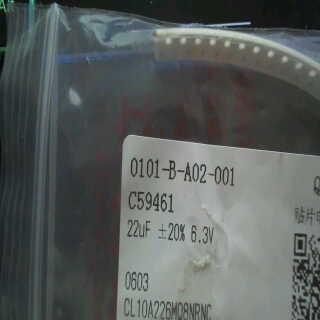22uF: (124, 215, 152, 246)
